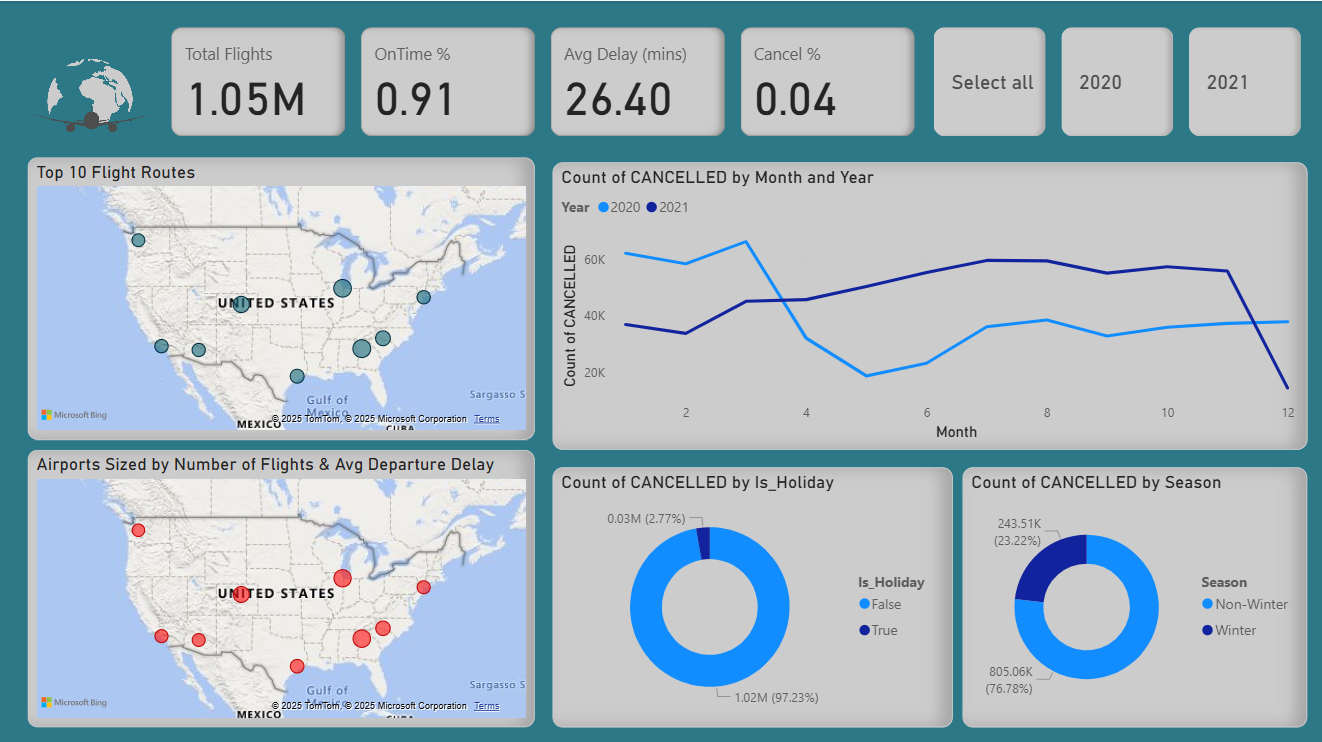

The page's visual inventory and layout, read from the dashboard file:
{"tool":"powerbi","page":{"name":"Page_3","canvas":[1280,720],"ordinal":2},"visuals":[{"type":"image","box":[0,0,173.7,179.8],"z":0},{"type":"cardVisual","fields":{"Data":["Flights.Total Flights","Flights.OnTime %","Flights.Avg Delay (mins)","Flights.Cancel %"]},"box":[160.5,20.5,727.5,115.8],"z":1000},{"type":"advancedSlicerVisual","fields":{"Values":["Flights.Year"]},"box":[896.4,20.5,365.6,115.8],"z":2000},{"type":"map","title":"Airports Sized by Number of Flights & Avg Departure Delay","fields":{"Category":["Flights.ORIGIN_CITY"],"Size":["Flights.Total Flights"],"Y":["Avg(Flights.Origin_City_lat)"],"X":["Avg(Flights.Origin_City_lng)"]},"box":[25.3,155.6,491,272.7],"z":3000},{"type":"donutChart","fields":{"Category":["Flights.Is_Holiday"],"Y":["CountNonNull(Flights.CANCELLED)"]},"box":[524.8,450,372.8,250.9],"z":4000},{"type":"donutChart","fields":{"Category":["Flights.Season"],"Y":["CountNonNull(Flights.CANCELLED)"]},"box":[909.7,450,352.3,250.9],"z":5000},{"type":"map","title":"Airports Sized by Number of Flights & Avg Arrival Delay","fields":{"Category":["Flights.DEST_CITY"],"X":["Avg(Flights.Dest_City_lng)"],"Y":["Avg(Flights.Dest_City_lat)"],"Size":["Flights.Total Flights"]},"box":[25.3,450,491,250.9],"z":6000},{"type":"clusteredBarChart","title":"Top 10 Routes","fields":{"Category":["Flights.Route"],"Y":["Flights.Total Flights"]},"box":[524.8,155.6,737.1,277.5],"z":7000}]}

Visuals, with their boxes in screenshot pixels (x1, y1, x2, y2), scaled from the page's 1280x720 canvas onto the 1322x742 screenshot:
image: [x1=0, y1=0, x2=179, y2=185]
cardVisual - Flights.Total Flights x Flights.OnTime %: [x1=166, y1=21, x2=917, y2=140]
advancedSlicerVisual - Flights.Year: [x1=926, y1=21, x2=1303, y2=140]
"Airports Sized by Number of Flights & Avg Departure Delay" map: [x1=26, y1=160, x2=533, y2=441]
donutChart - Flights.Is_Holiday x CountNonNull(Flights.CANCELLED): [x1=542, y1=464, x2=927, y2=722]
donutChart - Flights.Season x CountNonNull(Flights.CANCELLED): [x1=940, y1=464, x2=1303, y2=722]
"Airports Sized by Number of Flights & Avg Arrival Delay" map: [x1=26, y1=464, x2=533, y2=722]
"Top 10 Routes" clusteredBarChart: [x1=542, y1=160, x2=1303, y2=446]
